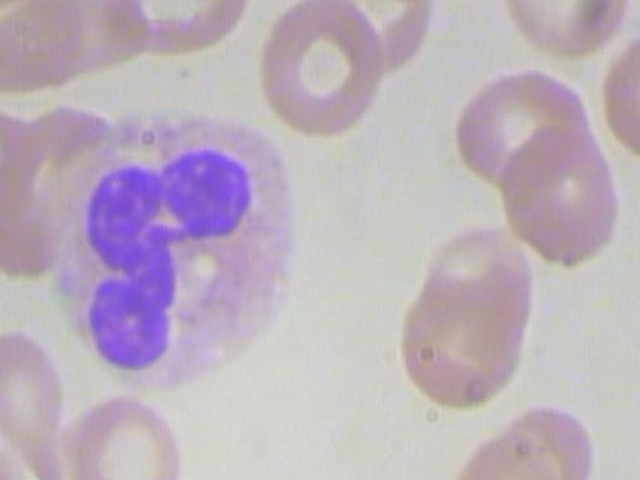RBC: (477, 119, 632, 268), (388, 267, 543, 416), (238, 0, 392, 140), (47, 395, 193, 480), (0, 325, 70, 480), (415, 415, 570, 480), (578, 25, 640, 168), (484, 0, 639, 57), (0, 0, 85, 95), (310, 0, 459, 9)
WBC: (37, 110, 318, 397)
